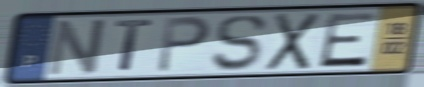E: (316, 10, 379, 70)
N: (45, 16, 109, 79)
P: (154, 14, 214, 75)
S: (210, 13, 269, 73)
T: (114, 18, 156, 74)
X: (263, 10, 323, 73)
